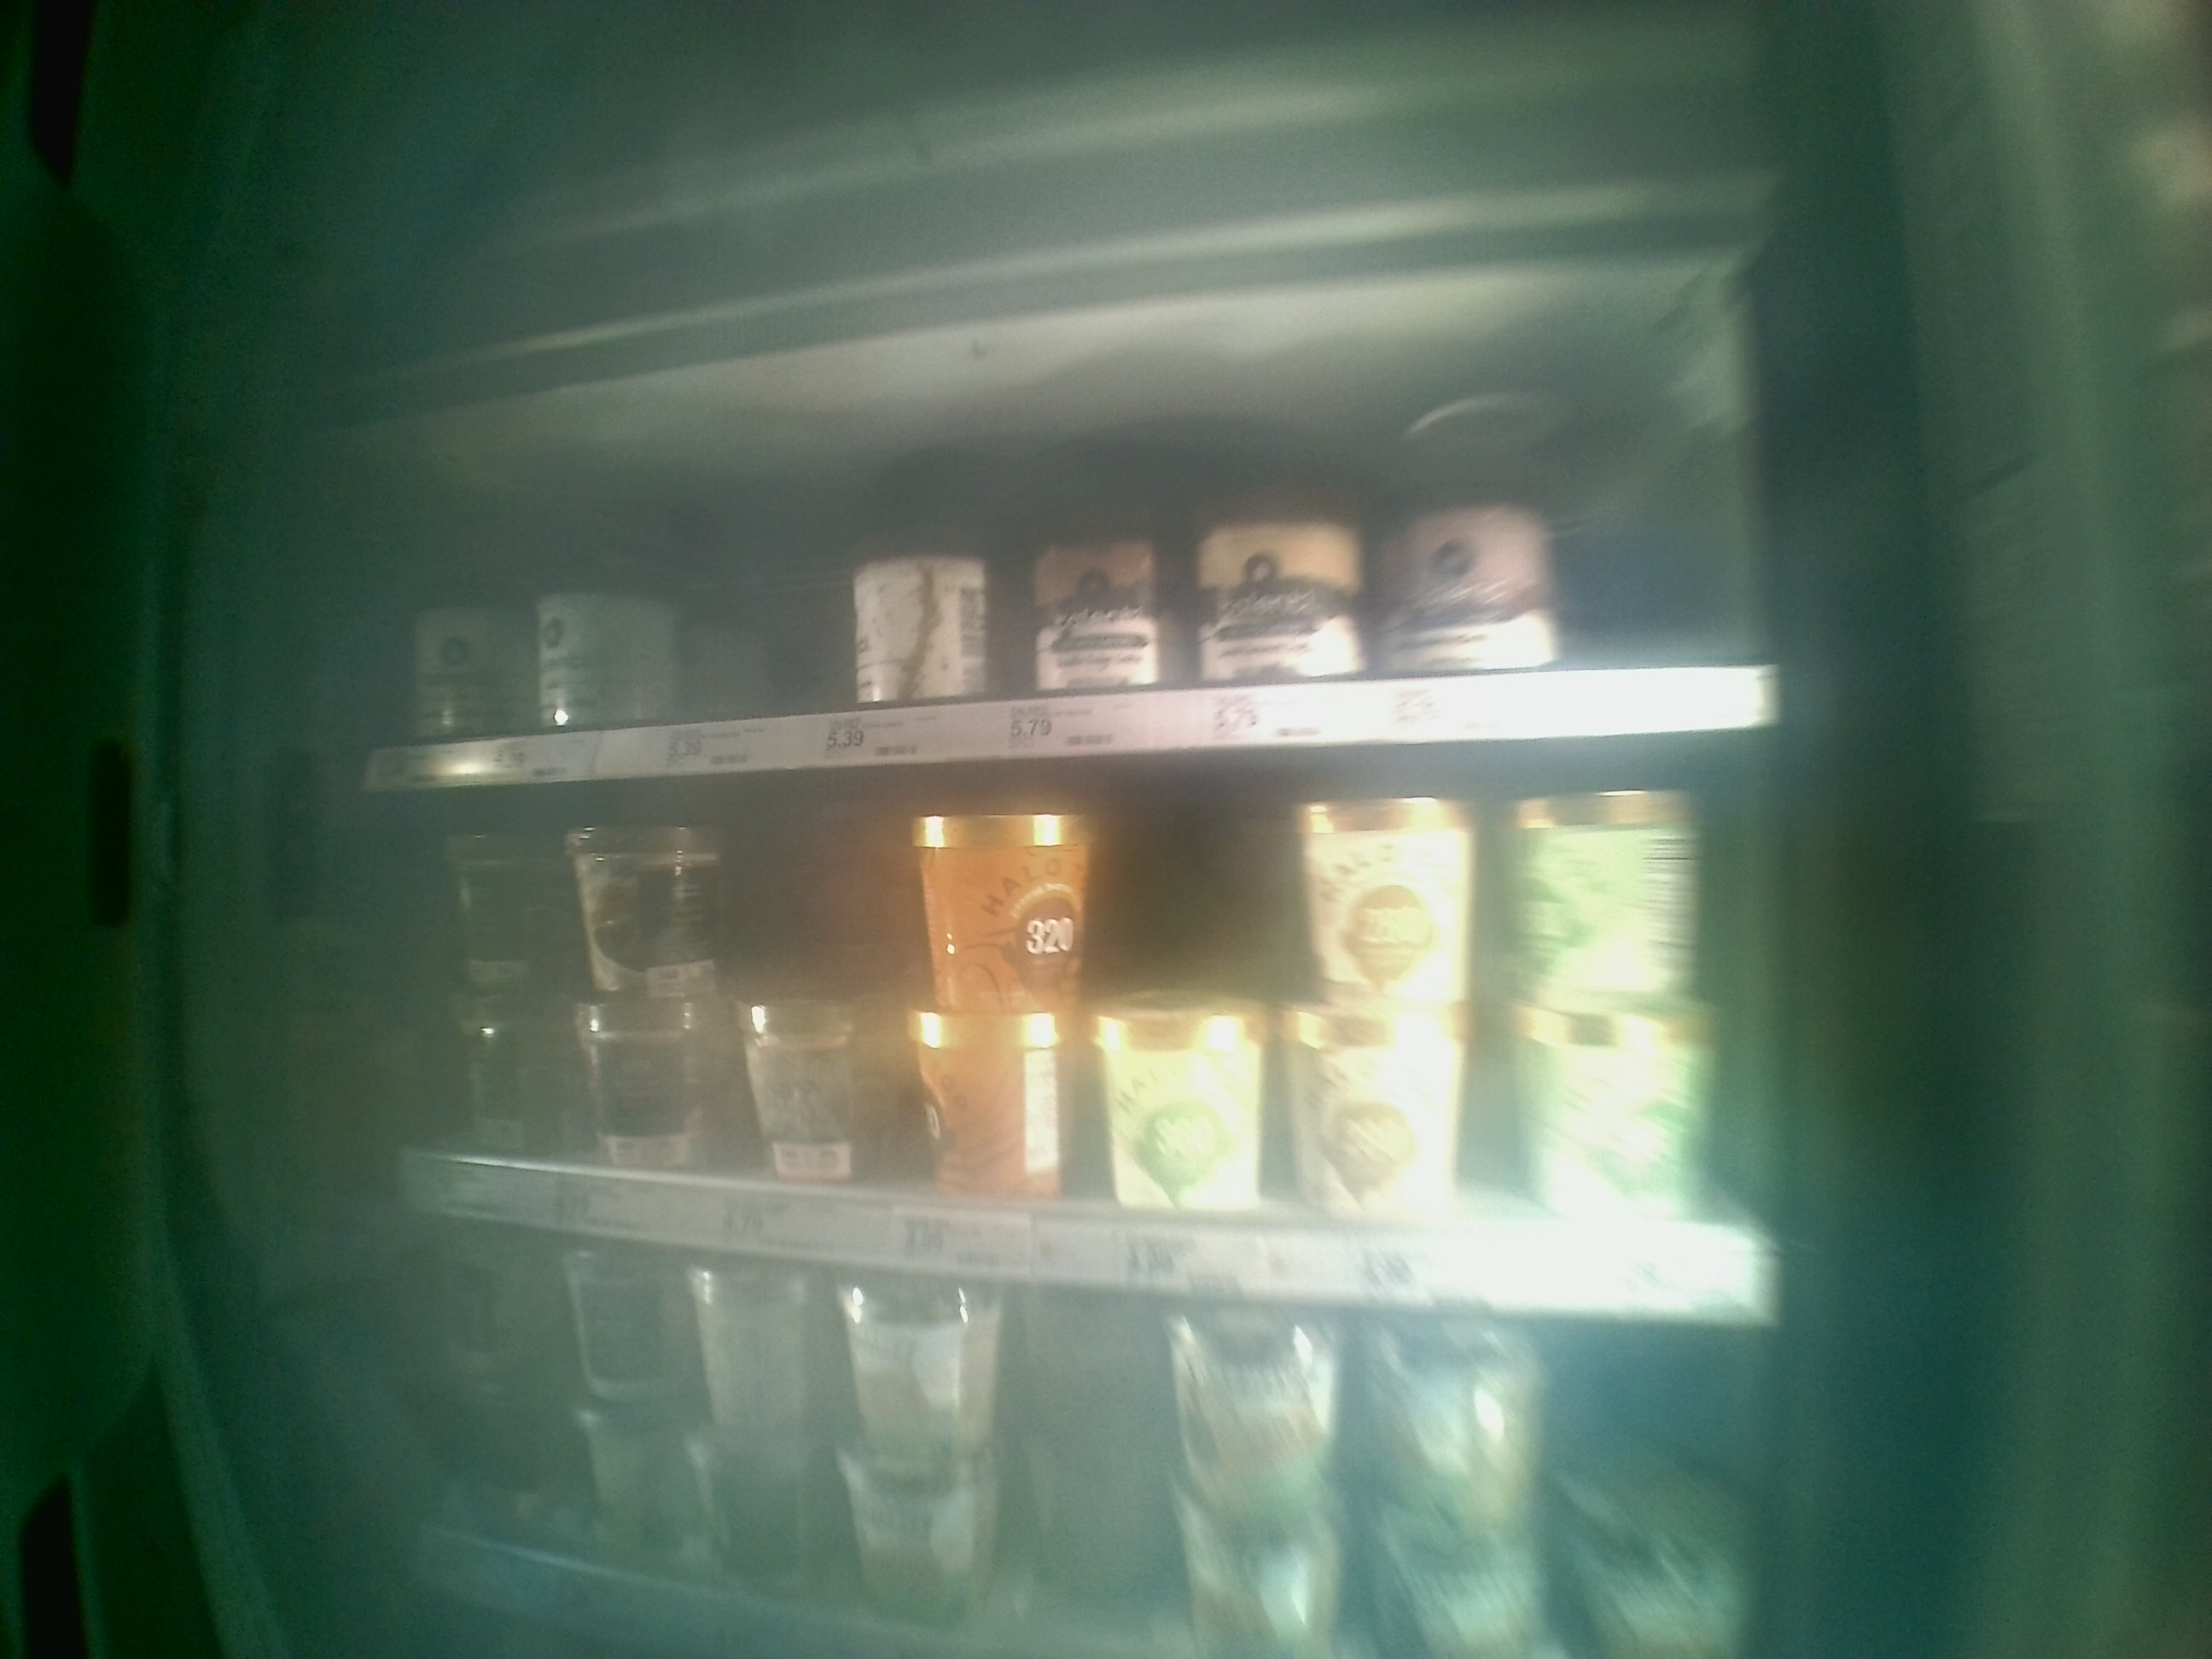shelf: (369, 728, 1787, 1337), (359, 315, 1780, 788)
